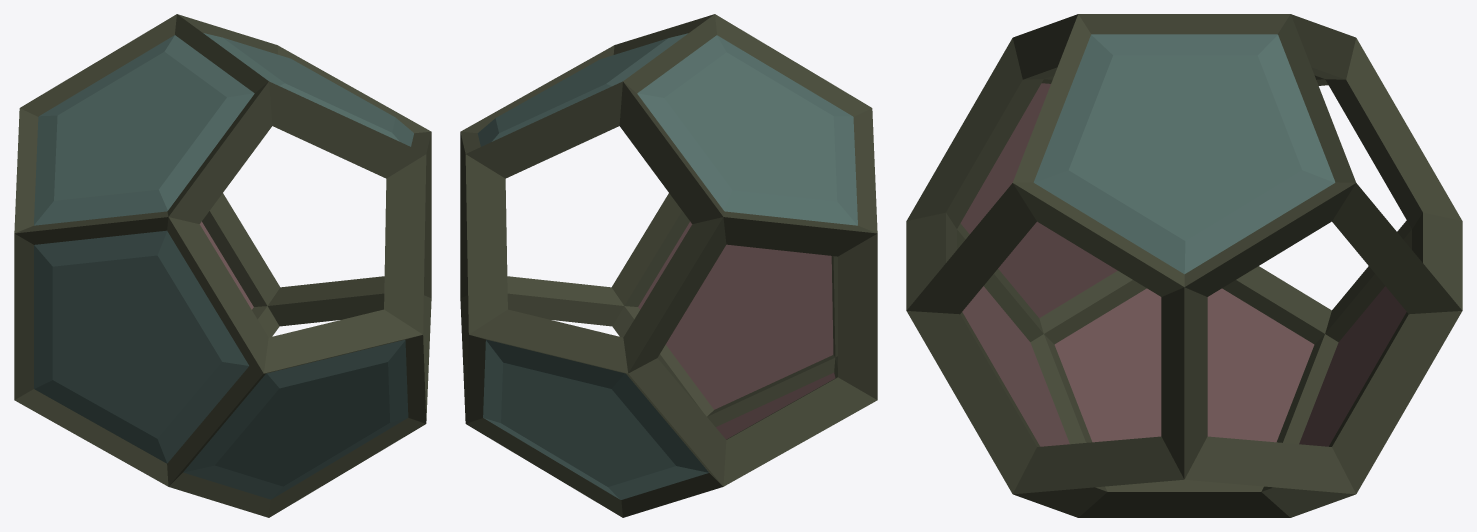
The model's file is artifact4.gltf.
3 views of the same model, side by side, from view 1: azimuth 30°, elevation 25°; view 2: azimuth 150°, elevation 25°; view 3: azimuth 270°, elevation 25° (orthographic). The views are drawn at different scales.
Visible parts, largest first — view 1: Solid.001; view 2: Solid.001; view 3: Solid.001.
Part boxes in pixels (<box>): Solid.001: <box>14,14,431,517</box>; Solid.001: <box>460,14,877,517</box>; Solid.001: <box>906,14,1462,517</box>.
Size of the model in its own units: 2.06 by 2.06 by 2.06.
1 material, 1 textured.
